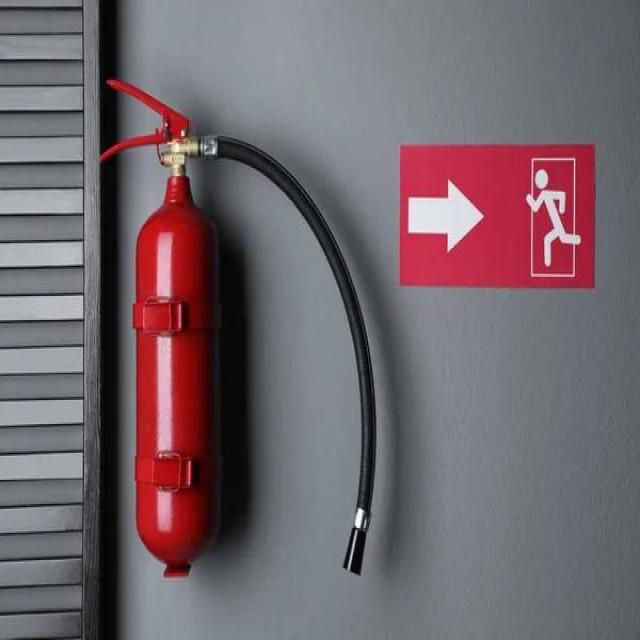fire_extinguisher: (92, 73, 378, 580)
